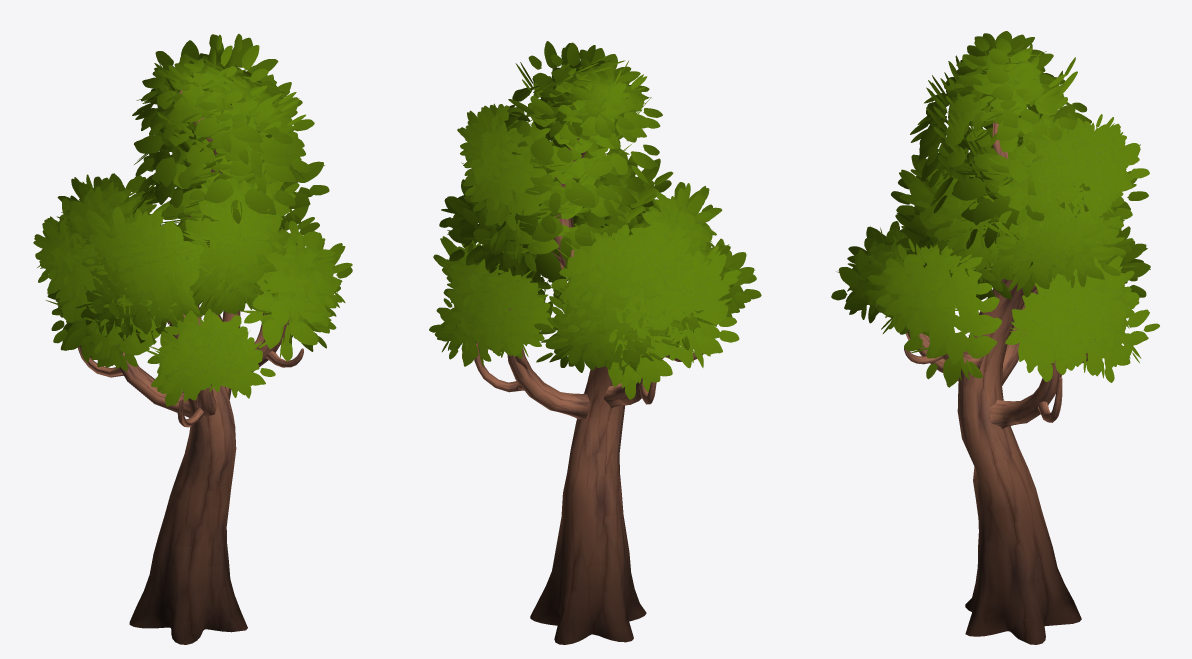
The model's file is oak_2.glb.
The picture shows the model from 3 angles, left to right: view 1: azimuth 30°, elevation 25°; view 2: azimuth 150°, elevation 25°; view 3: azimuth 270°, elevation 25°; orthographic projection. The views are drawn at different scales.
Parts seen in each view (by area): view 1: CommonTree_2; view 2: CommonTree_2; view 3: CommonTree_2.
Boxes of the visible parts, x1,y1,x2,y2 form: CommonTree_2: [33, 34, 352, 644]; CommonTree_2: [429, 41, 761, 644]; CommonTree_2: [831, 31, 1159, 644].
Bounding box in the file's own units: 4.46 × 7.64 × 4.28.
2 materials, 2 textured.
